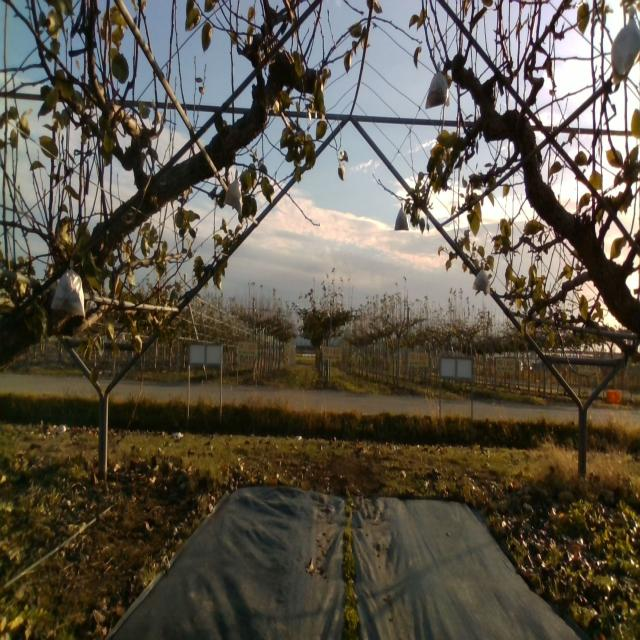pearbags: (51, 257, 88, 315), (612, 7, 640, 76), (220, 168, 244, 216), (425, 72, 449, 111), (472, 264, 490, 293), (394, 203, 408, 232)
